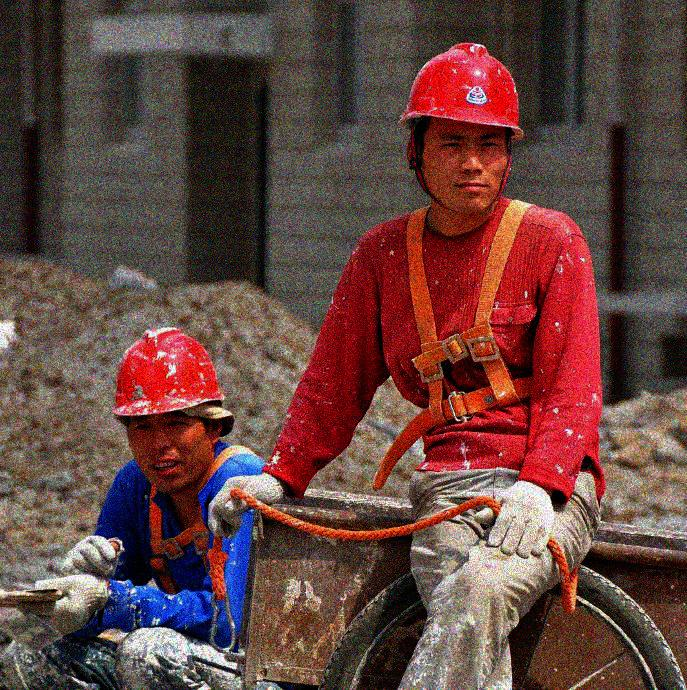helmet: (394, 37, 526, 214), (107, 327, 227, 494)
